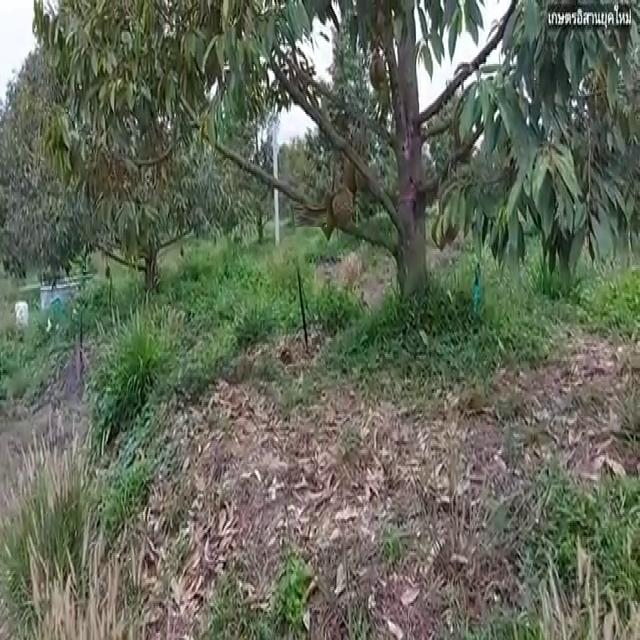durian: (305, 194, 348, 237), (327, 184, 356, 236), (368, 49, 389, 98)
